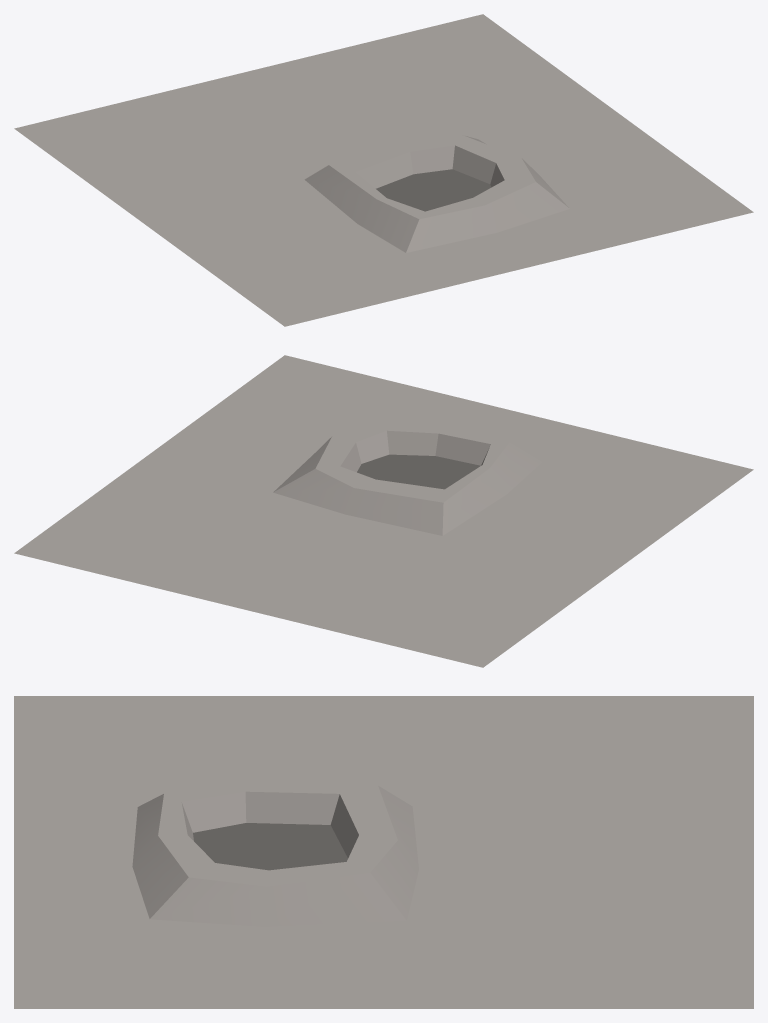
Rendered from SM_Env_Crater_01.fbx.
The picture shows the model from 3 angles, top to bottom: view 1: azimuth 30°, elevation 25°; view 2: azimuth 150°, elevation 25°; view 3: azimuth 270°, elevation 25°; orthographic projection. The views are drawn at different scales.
Parts seen in each view (by area): view 1: SM_Env_Crater_01; view 2: SM_Env_Crater_01; view 3: SM_Env_Crater_01.
Part boxes in pixels (box(x1,y1,x2,y2)): SM_Env_Crater_01: box(14, 14, 753, 326); SM_Env_Crater_01: box(14, 355, 753, 667); SM_Env_Crater_01: box(14, 696, 753, 1008).
Size of the model in its own units: 20 by 0.8606 by 20.
